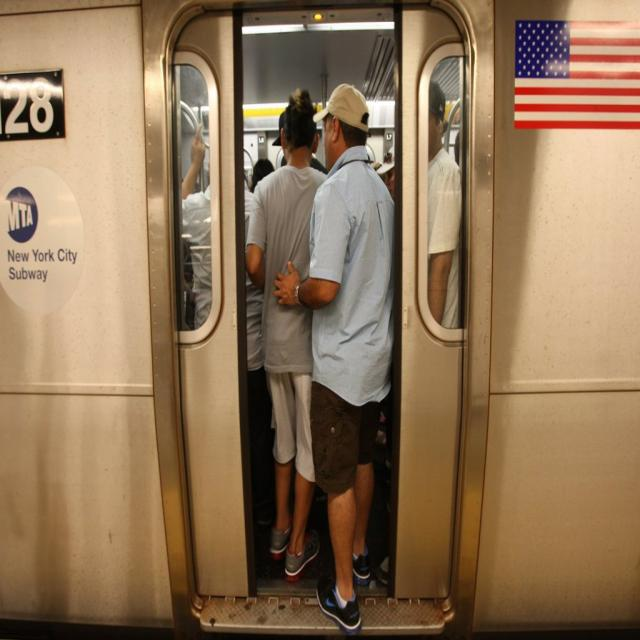body: (272, 80, 393, 638), (244, 87, 332, 578), (180, 120, 279, 528), (180, 118, 489, 195), (427, 78, 465, 330)
